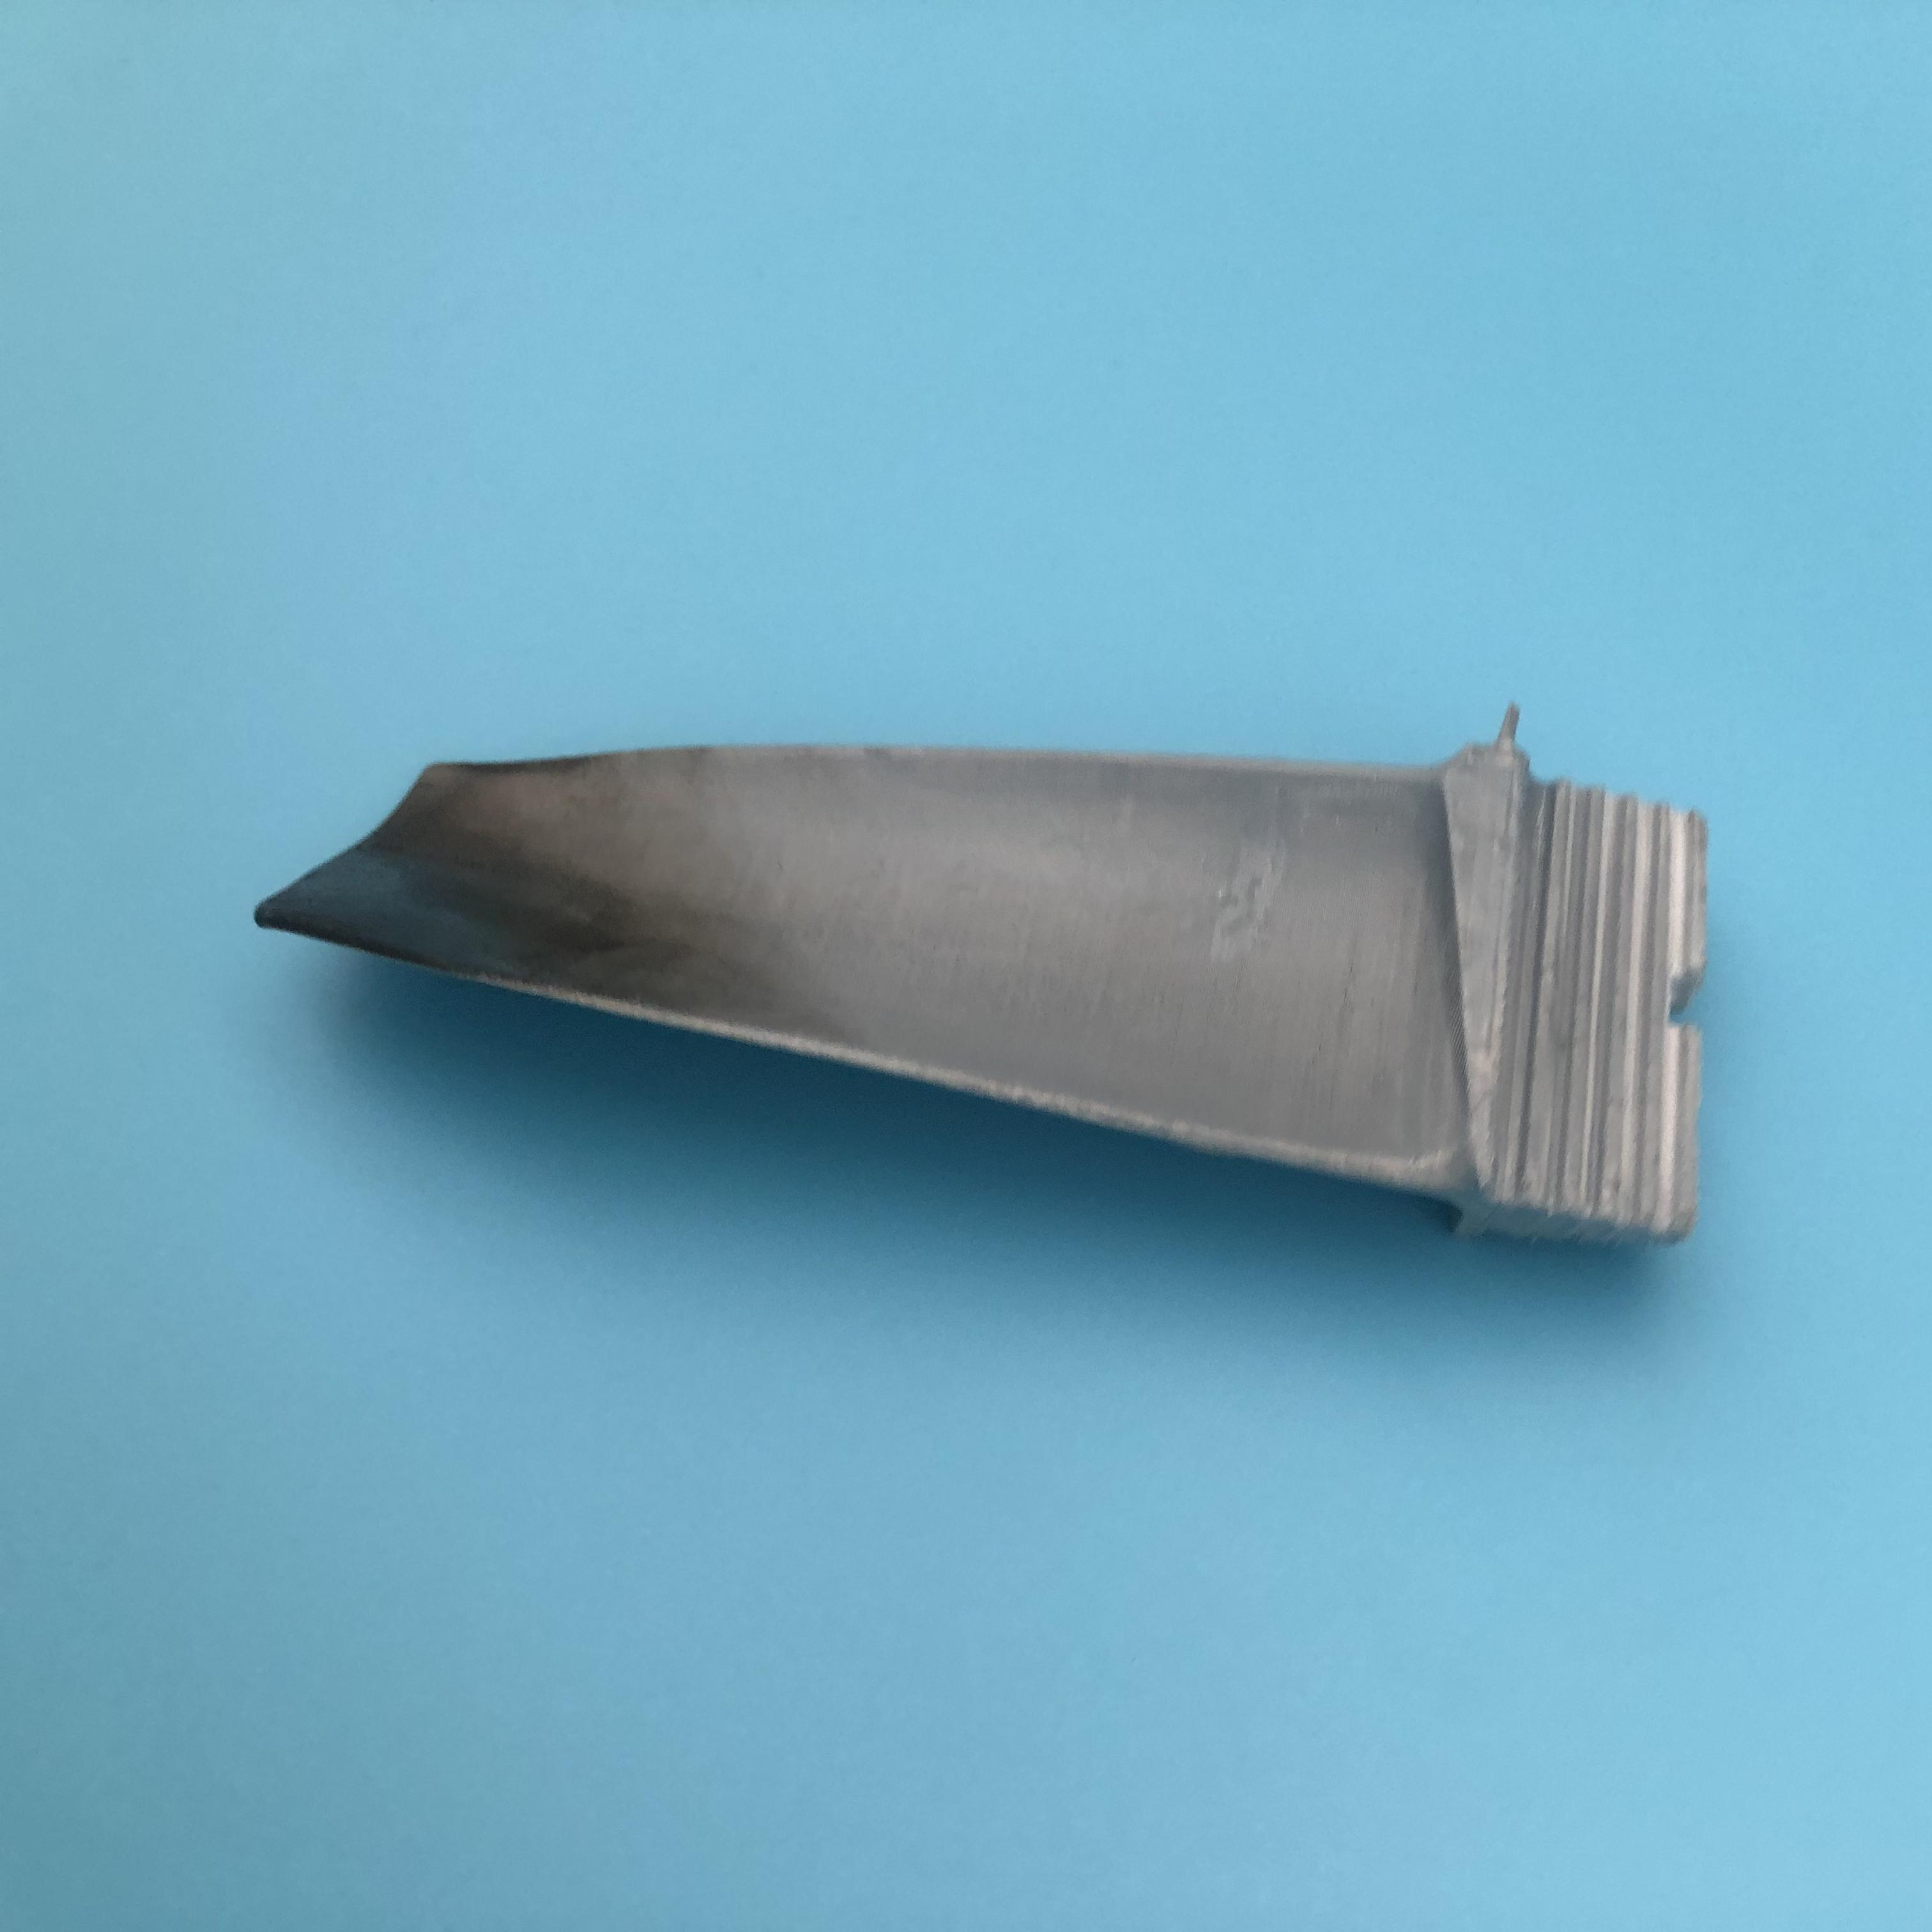ablation: (301, 786, 782, 998)
